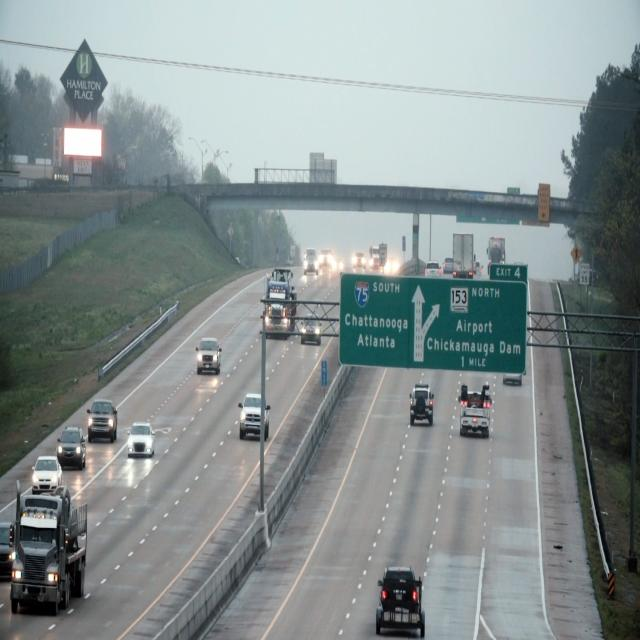Car: (15, 491, 89, 611), (376, 561, 427, 639), (266, 266, 296, 341), (458, 384, 492, 444), (85, 395, 122, 443), (238, 390, 271, 441), (29, 455, 66, 495), (57, 423, 88, 469), (192, 337, 225, 379), (127, 421, 158, 460), (408, 384, 436, 427), (302, 313, 322, 347)
